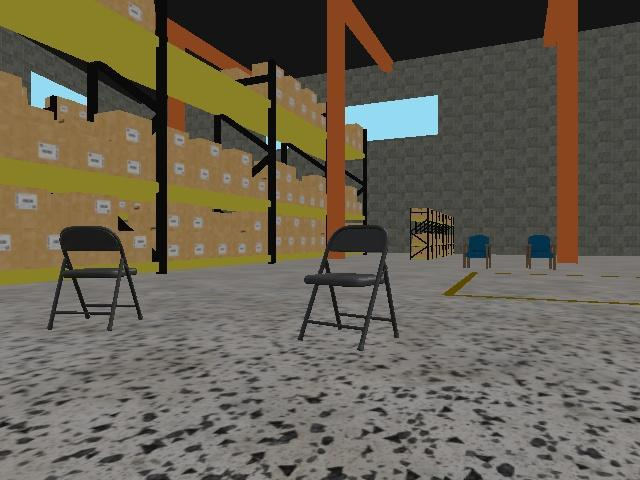chair: (298, 225, 400, 351), (47, 225, 144, 331), (525, 235, 558, 271), (463, 235, 493, 269)
